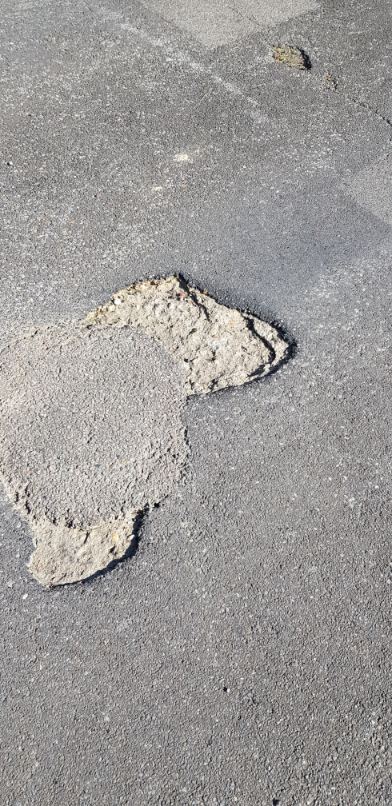pothole: (79, 269, 298, 400), (11, 500, 159, 593)
